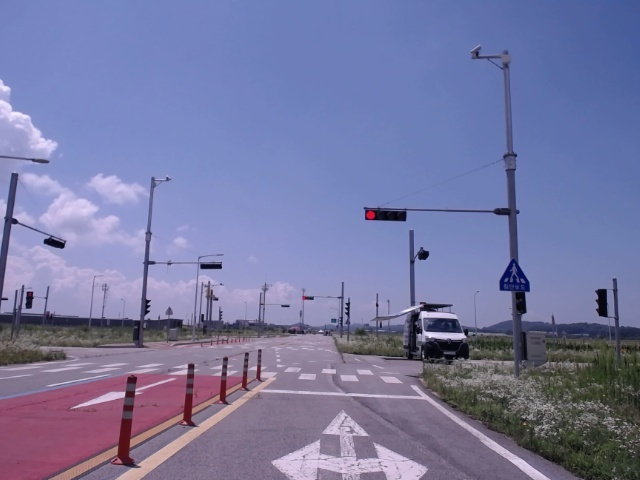red_4: (364, 210, 406, 221)
